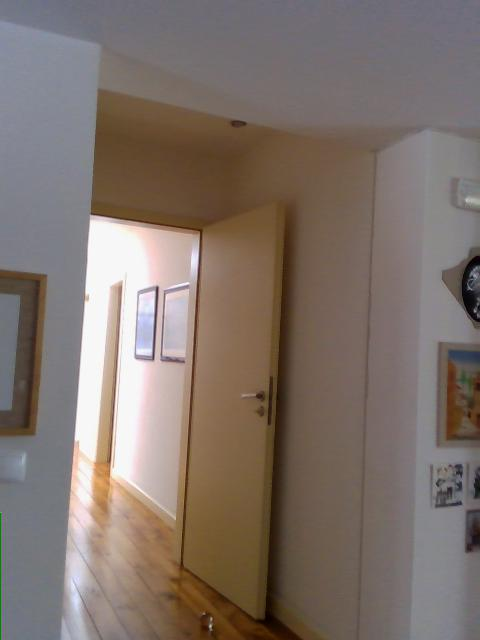open_door: (51, 205, 220, 570)
